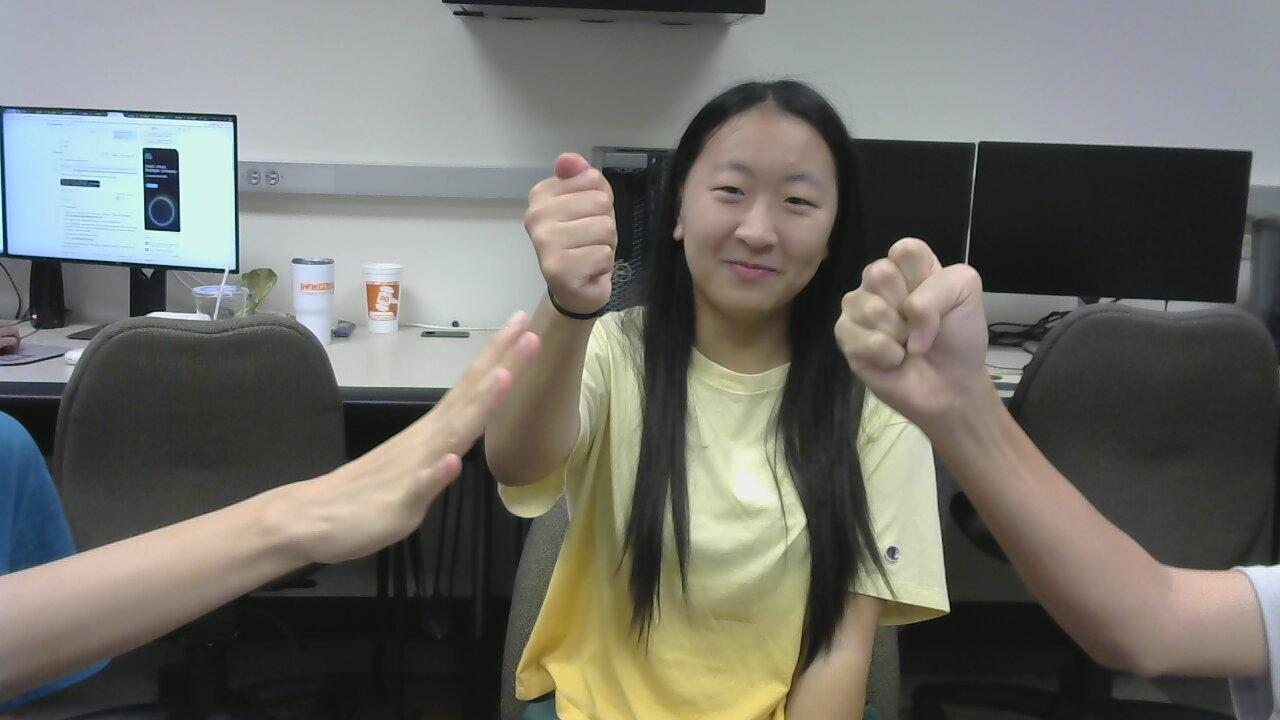fist: (831, 220, 1020, 432), (516, 133, 639, 320)
hands: (307, 312, 556, 565)
